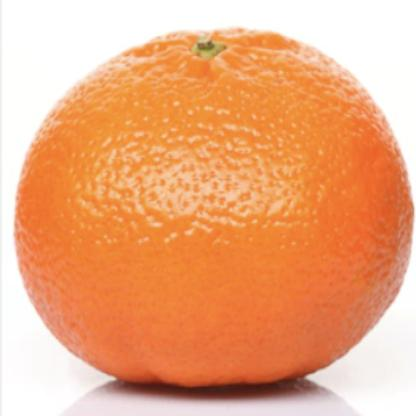fresh: (10, 25, 416, 387)
